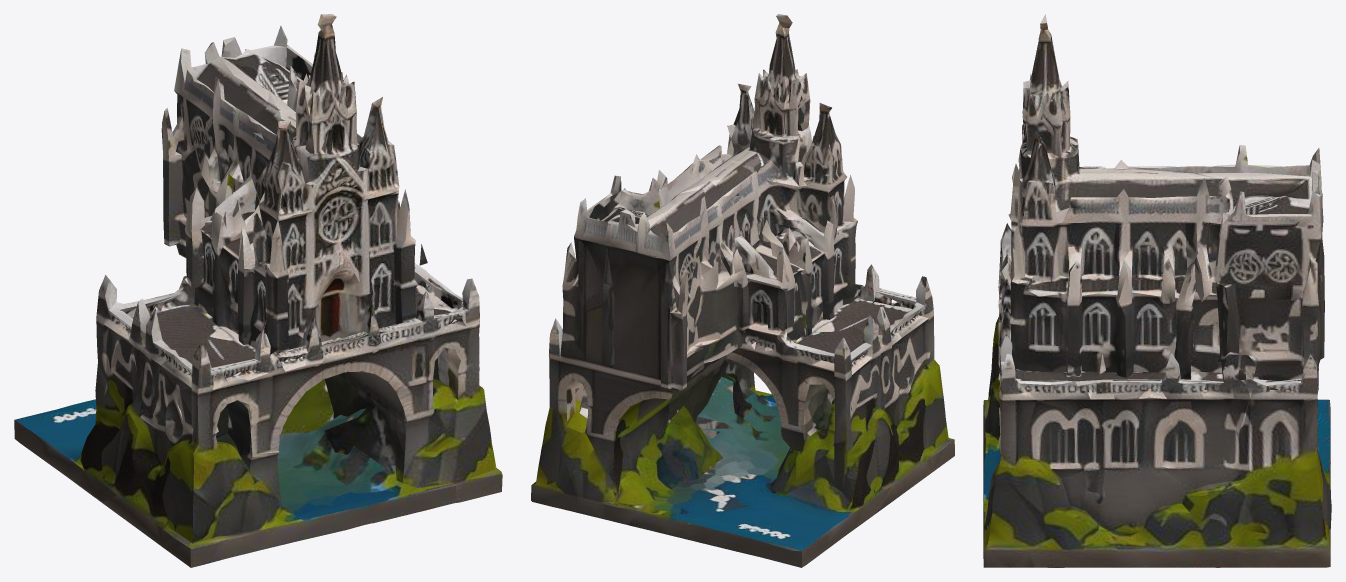
File: las-lajas-sanctuary.glb
The picture shows the model from 3 angles, left to right: view 1: azimuth 30°, elevation 25°; view 2: azimuth 150°, elevation 25°; view 3: azimuth 270°, elevation 25°; orthographic projection. The views are drawn at different scales.
Parts seen in each view (by area): view 1: logan-textured.obj; view 2: logan-textured.obj; view 3: logan-textured.obj.
Part boxes in pixels (bbox=[...]): logan-textured.obj: bbox=[14, 14, 502, 567]; logan-textured.obj: bbox=[531, 14, 954, 567]; logan-textured.obj: bbox=[983, 14, 1331, 567].
Bounding box in the file's own units: 0.6674 × 1 × 0.6547.
1 material, 1 textured.
